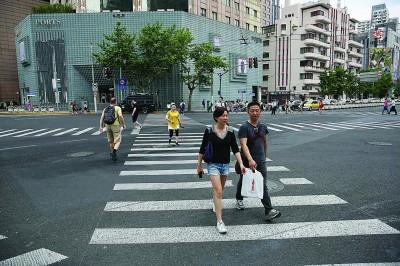car: (302, 99, 325, 111)
person: (195, 105, 244, 233), (235, 102, 283, 222), (100, 98, 126, 161), (165, 104, 182, 145), (130, 98, 140, 125), (214, 95, 226, 108), (388, 100, 398, 115), (382, 98, 390, 114), (70, 101, 79, 115), (270, 100, 278, 115), (318, 98, 325, 114), (179, 101, 186, 114)
traffic light: (104, 67, 113, 79)
